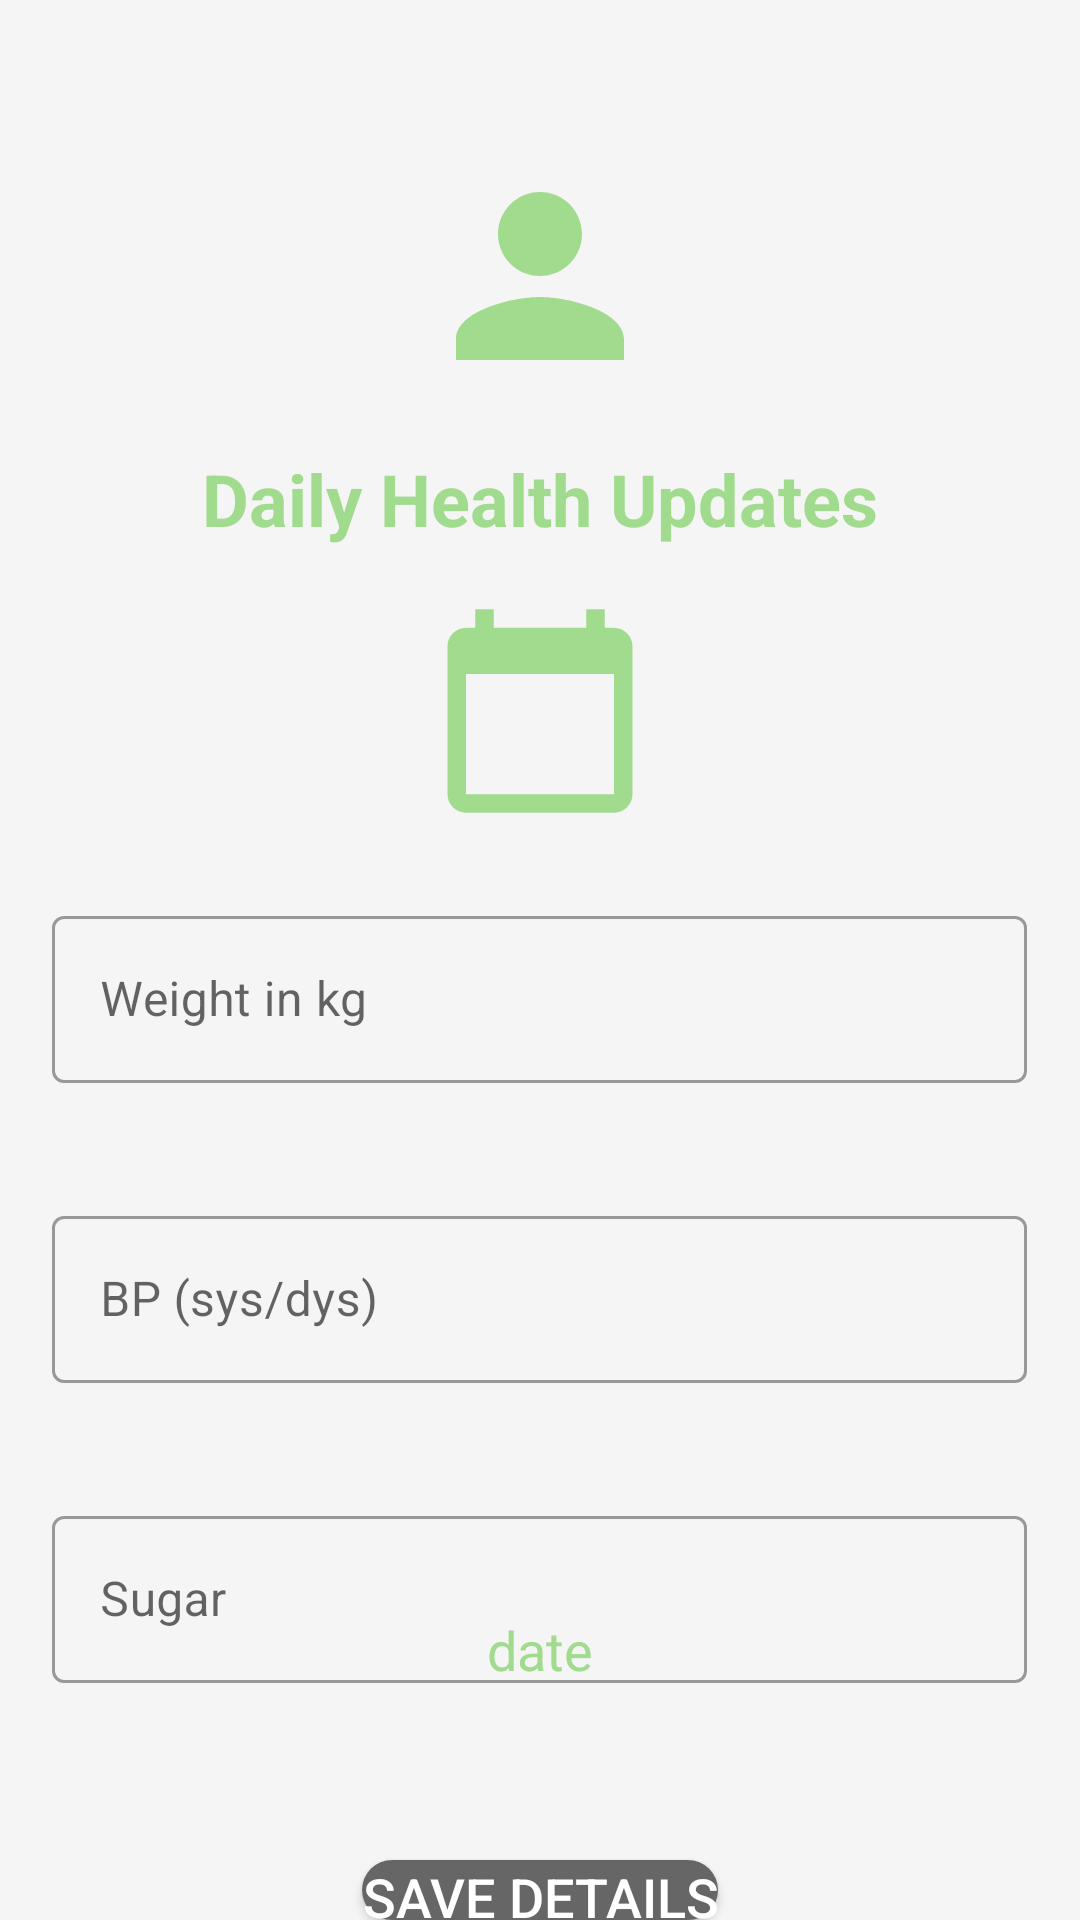

Screen size 1080 × 1920. Icon name, then its center in pixels as (x=x, y=y):
calendar today: (x=540, y=711)
person: (x=540, y=276)
